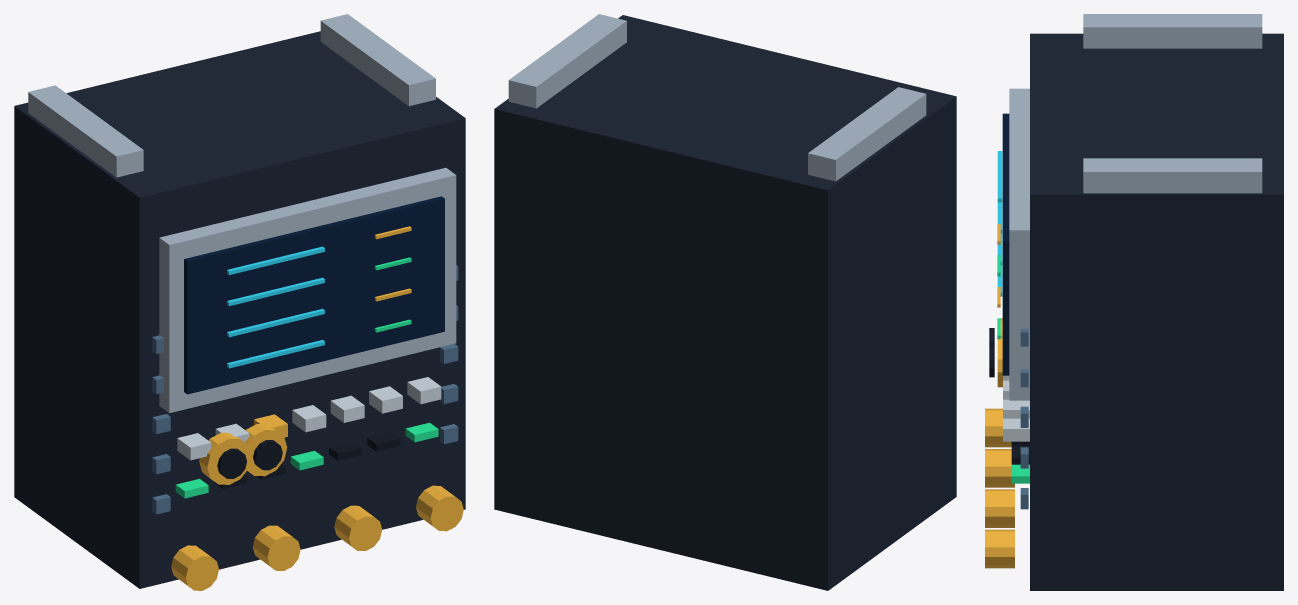
Rendered from 46_L85_PrecisionFlightTimeReferenceClock.fbx.
The picture shows the model from 3 angles, left to right: view 1: azimuth 30°, elevation 25°; view 2: azimuth 150°, elevation 25°; view 3: azimuth 270°, elevation 25°; orthographic projection. The views are drawn at different scales.
Visible parts, largest first — view 1: L85_PrecisionFlightTimeReferenceClock, L85_PrecisionFlightTimeReferenceClock_Part_0009, L85_PrecisionFlightTimeReferenceClock_Part_0011, L85_PrecisionFlightTimeReferenceClock_Part_0012, L85_PrecisionFlightTimeReferenceClock_Part_0010; view 2: L85_PrecisionFlightTimeReferenceClock; view 3: L85_PrecisionFlightTimeReferenceClock.
Part boxes in pixels (x1=…): L85_PrecisionFlightTimeReferenceClock: x1=14, y1=14, x2=465, y2=590; L85_PrecisionFlightTimeReferenceClock_Part_0009: x1=199, y1=432, x2=251, y2=484; L85_PrecisionFlightTimeReferenceClock_Part_0011: x1=244, y1=424, x2=287, y2=476; L85_PrecisionFlightTimeReferenceClock_Part_0012: x1=253, y1=440, x2=282, y2=470; L85_PrecisionFlightTimeReferenceClock_Part_0010: x1=217, y1=448, x2=246, y2=478; L85_PrecisionFlightTimeReferenceClock: x1=494, y1=14, x2=956, y2=590; L85_PrecisionFlightTimeReferenceClock: x1=985, y1=14, x2=1283, y2=590.
Size of the model in its own units: 95.88 by 116 by 75.2.
